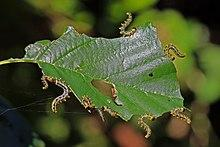insect: (50, 80, 72, 118), (117, 10, 140, 39), (136, 111, 157, 140), (169, 104, 194, 125), (163, 42, 188, 63), (101, 104, 122, 120), (39, 72, 54, 90), (80, 95, 96, 109)
